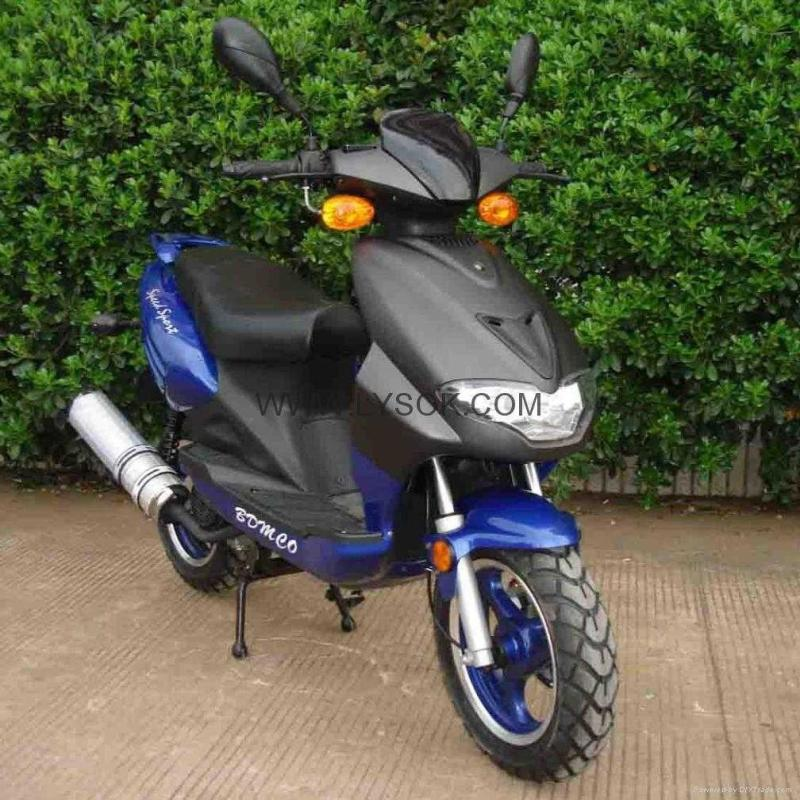bike: (60, 18, 654, 783)
